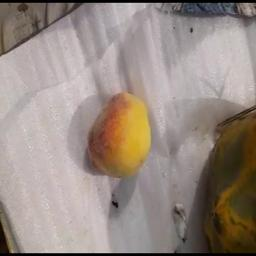Peach Fresh: (79, 80, 175, 179)
